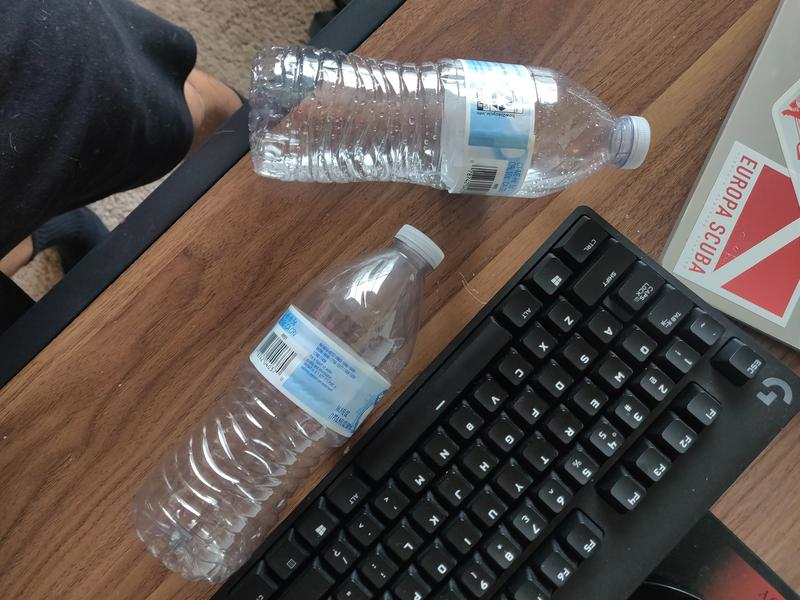bottle: (135, 224, 446, 584), (248, 43, 651, 199)
